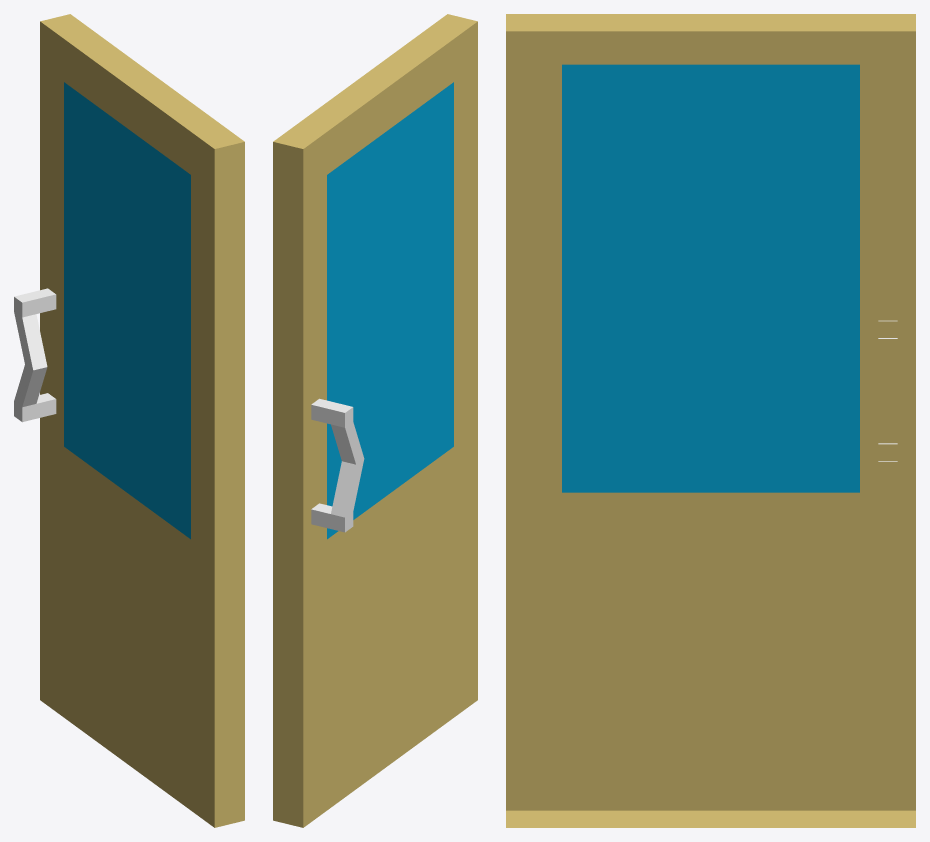
The model's file is PlasticDoor_Mesh.fbx.
The picture shows the model from 3 angles, left to right: view 1: azimuth 30°, elevation 25°; view 2: azimuth 150°, elevation 25°; view 3: azimuth 270°, elevation 25°; orthographic projection. The views are drawn at different scales.
Parts seen in each view (by area): view 1: PlasticDoor; view 2: PlasticDoor; view 3: PlasticDoor.
Part boxes in pixels (x1,y1,x2,y2): PlasticDoor: (14,14,244,827); PlasticDoor: (273,14,477,827); PlasticDoor: (506,14,915,827).
Size of the model in its own units: 29.73 by 300 by 140.
